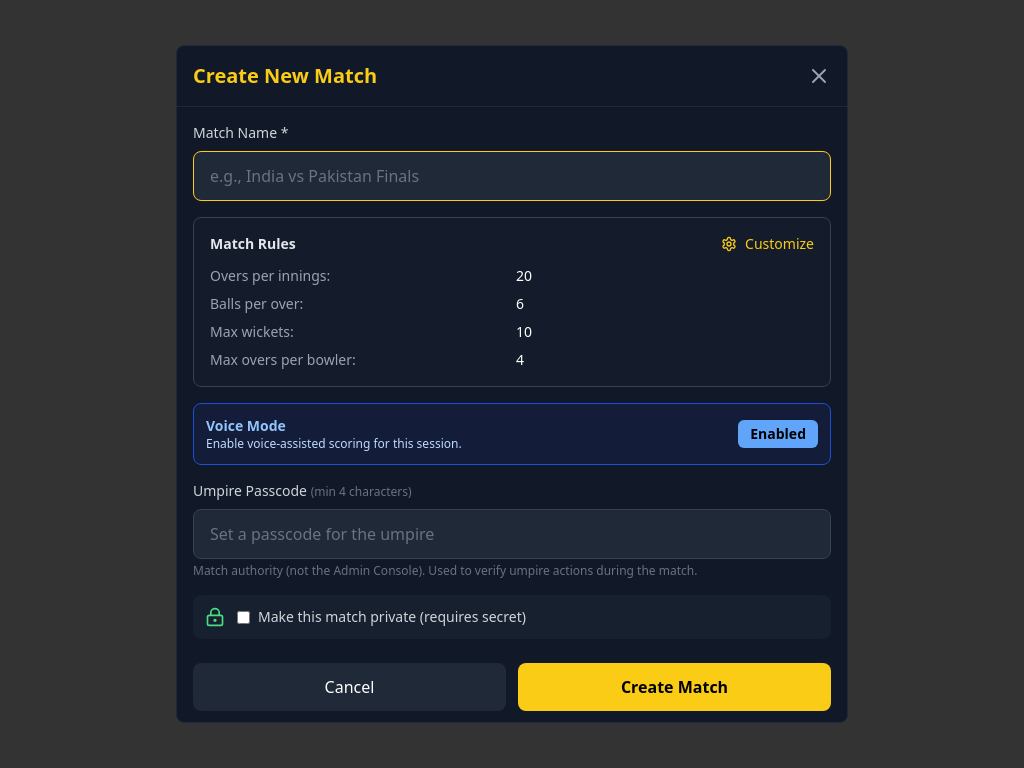
Test case: CreateMatchModal › validates required fields and passcode minimum length
Expected: the heading "Create New Match" is shown, [193,62,377,90]
Click the button "Create Match" at (674, 687), box [518,663,831,711]
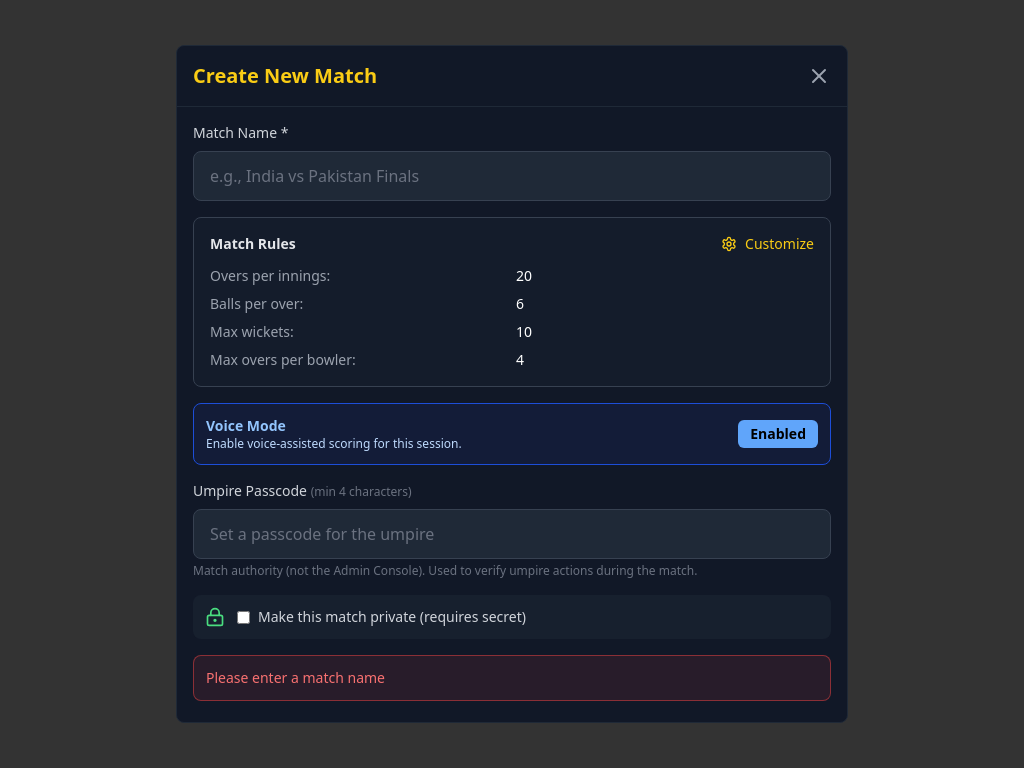
Now the text "Please enter a match name" is shown, box [206,668,385,687]
Type "A" into the field with placeholder "e.g., India vs Pakistan Finals" at (512, 176), box [193,151,831,201]
(page scrolled)
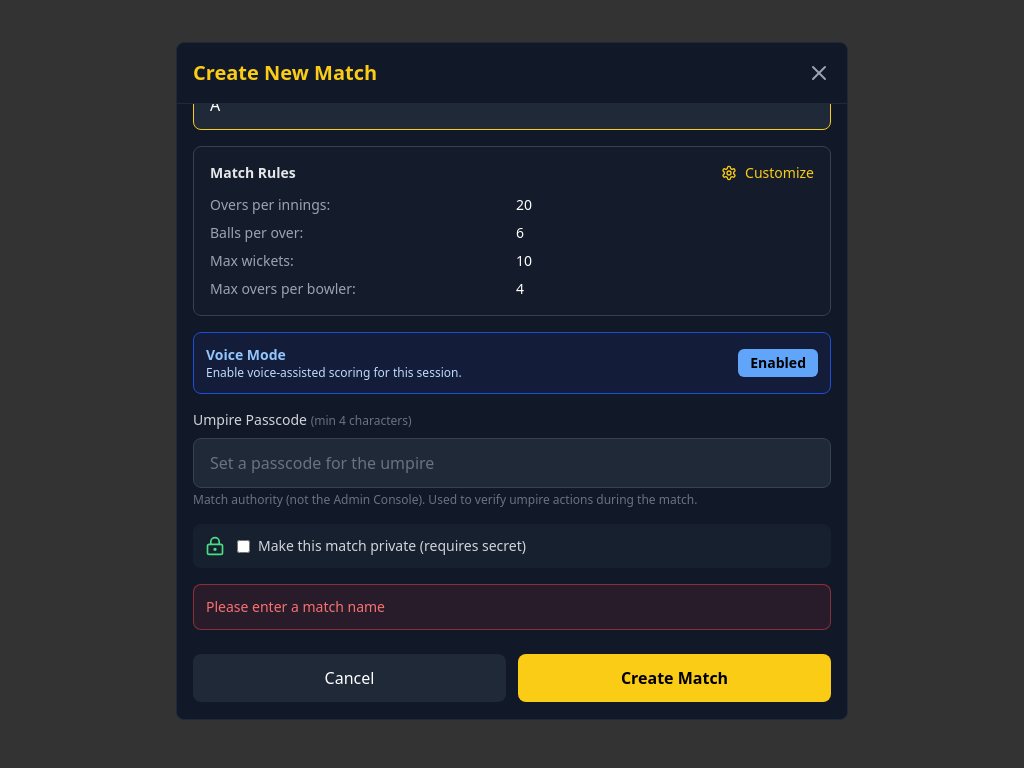
Click the button "Create Match" at (674, 678), box [518,654,831,702]
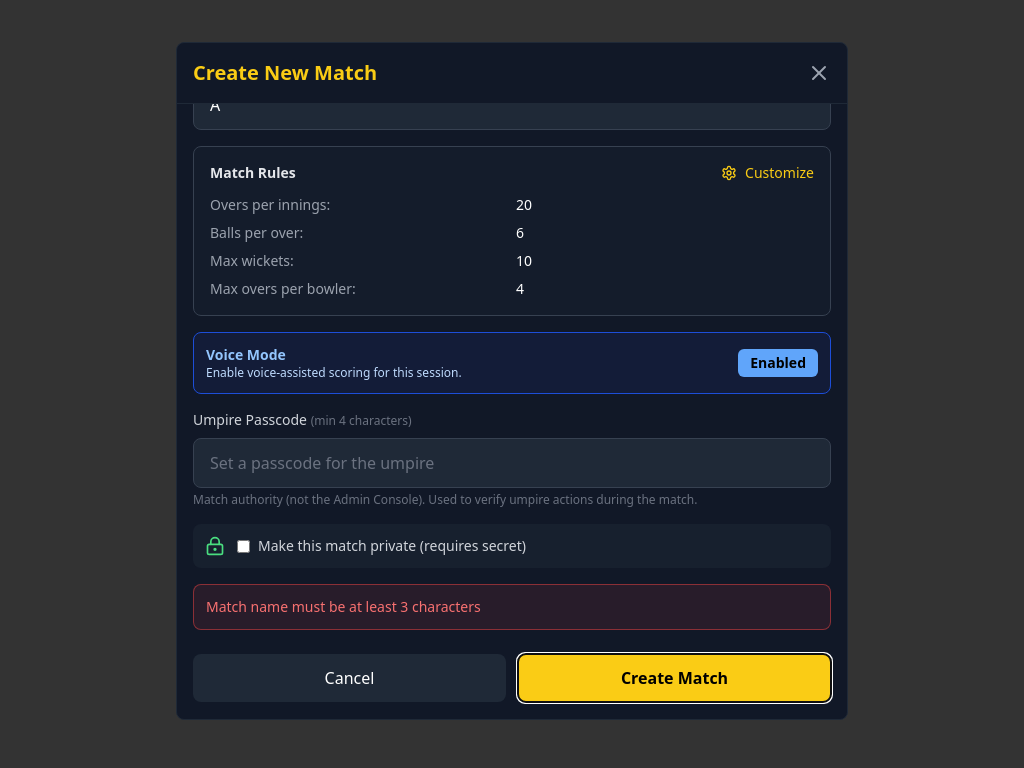
Now the text "Match name must be at least 3 characters" is shown, box [206,597,481,616]
Clear the field with placeholder "e.g., India vs Pakistan Finals" at (512, 105), box [193,80,831,130]
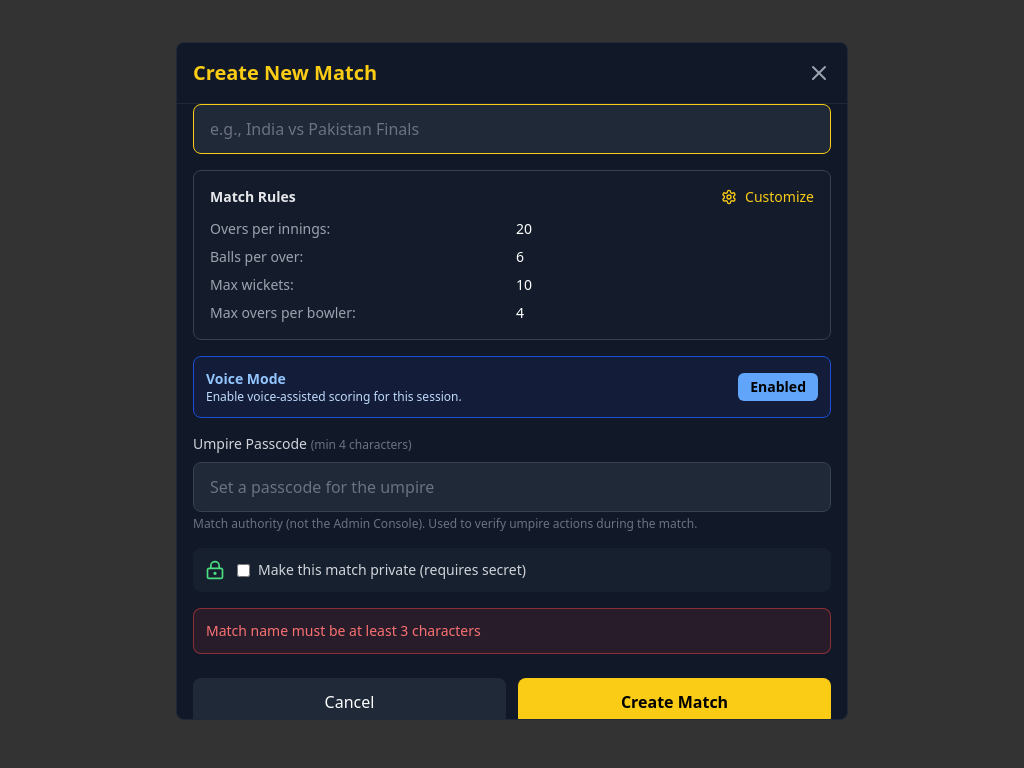
Type "Valid Match Name" into the field with placeholder "e.g., India vs Pakistan Finals" at (512, 129), box [193,104,831,154]
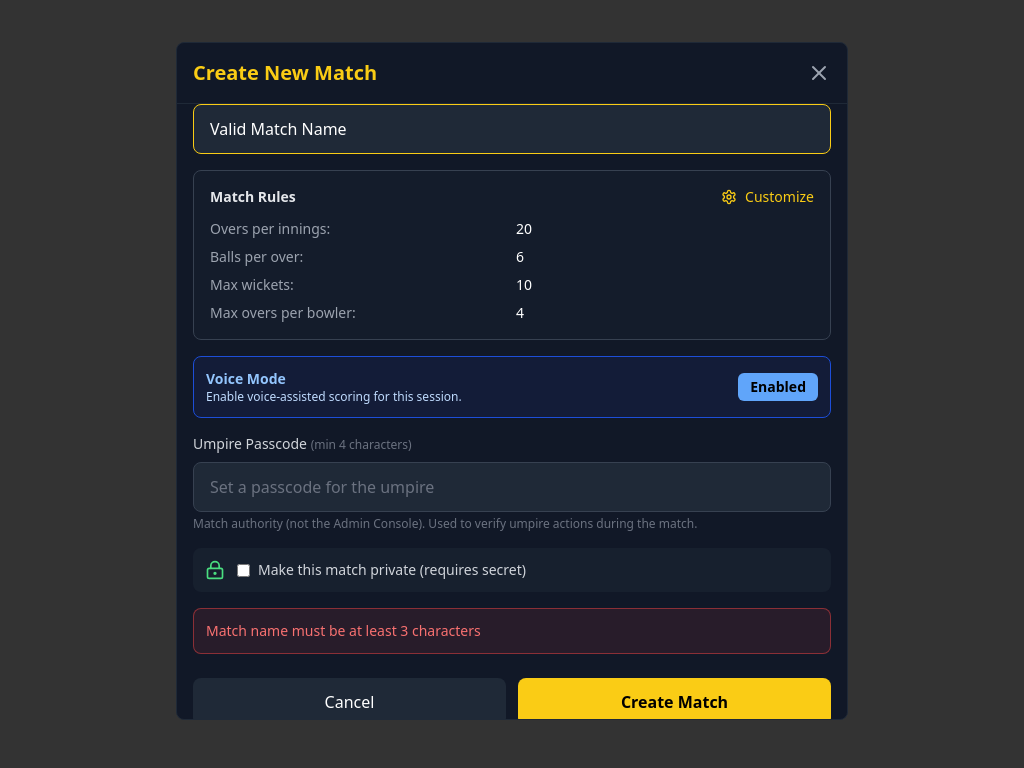
Click the button "Create Match" at (674, 702), box [518,678,831,726]
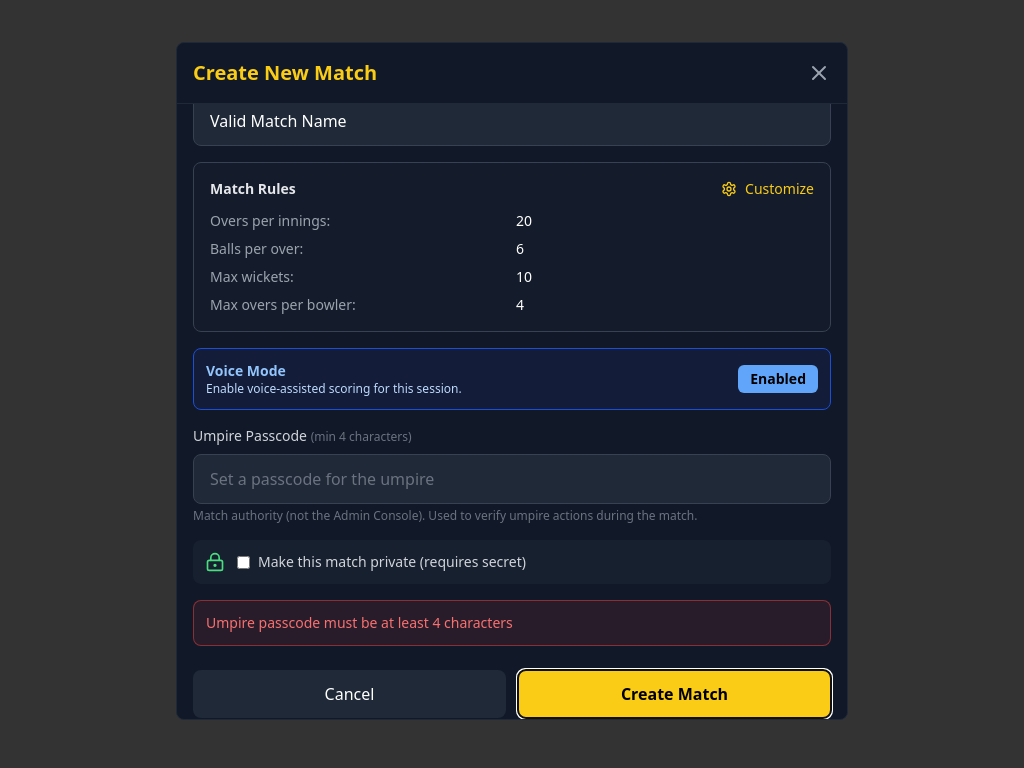
Now the text "Umpire passcode must be at least 4 characters" is shown, box [206,613,513,632]
